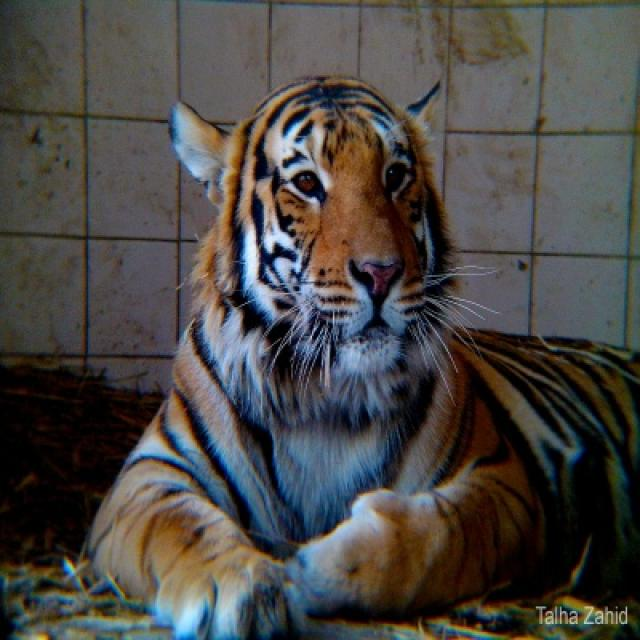Tiger: (83, 71, 635, 638)
